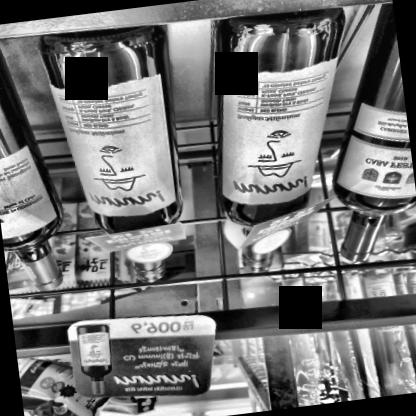umm: (207, 54, 362, 209), (49, 65, 184, 225)
